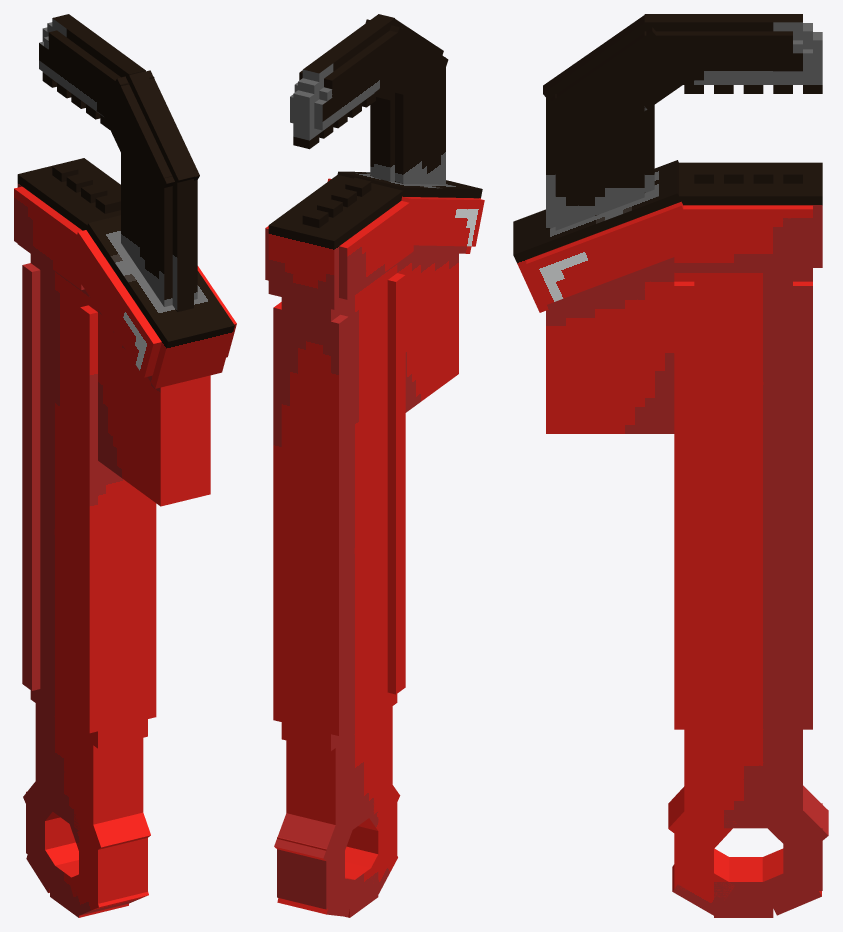
Rendered from chave_Inglesa_final_.gltf.
3 renders of one model, left to right at view 1: azimuth 30°, elevation 25°; view 2: azimuth 150°, elevation 25°; view 3: azimuth 270°, elevation 25°, orthographic. The views are drawn at different scales.
Visible parts, largest first — view 1: cube (×25); view 2: cube (×24); view 3: cube (×23).
Part boxes in pixels (box(x1,y1,x2,y2)): cube (×25): box(14, 24, 234, 917); cube (×24): box(268, 14, 484, 917); cube (×23): box(513, 14, 828, 917).
Size of the model in its own units: 0.625 by 6.19 by 1.99.
Materials: 1 (1 with a texture image).
